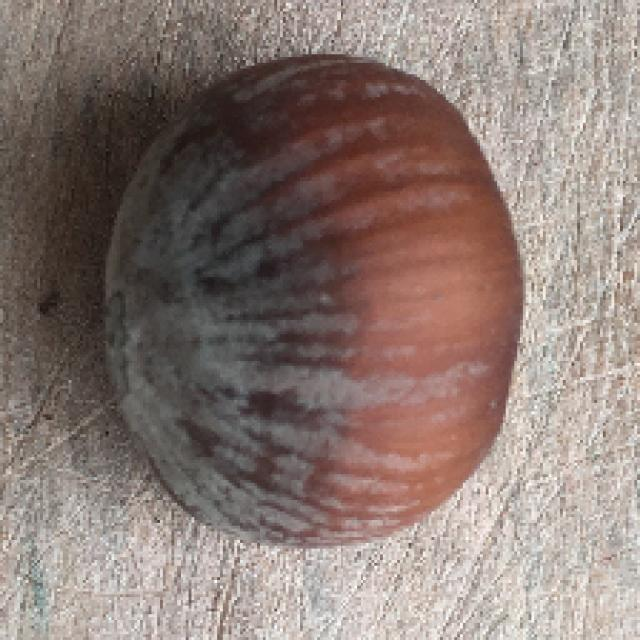qualityHazelnut: (104, 46, 526, 552)
